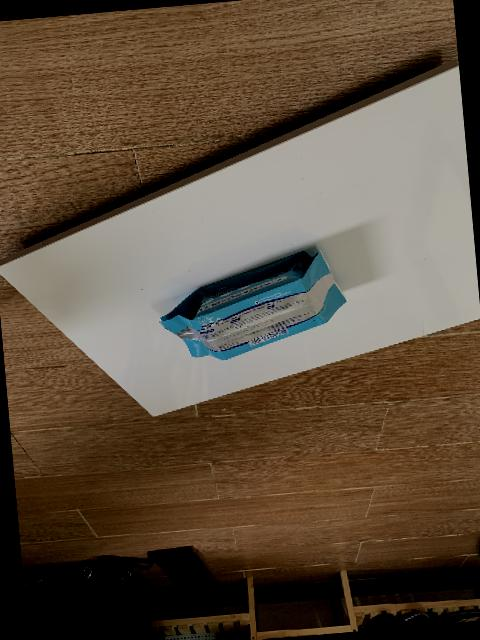Let-green_alcohol_wipes: (158, 249, 347, 359)
